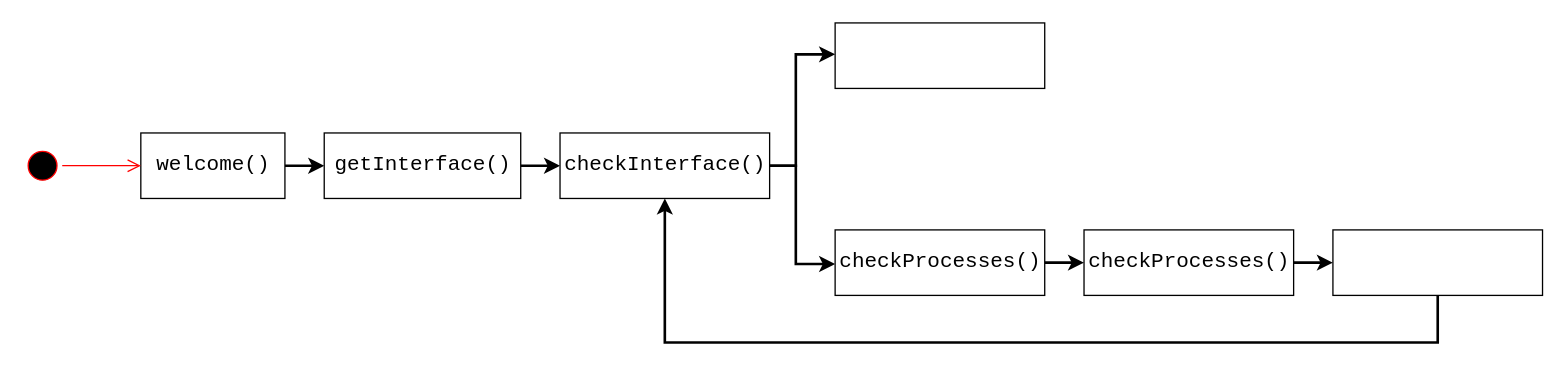
Image size: 1565x377. Some labels were removed from this diagram. The centre of each missing label's shape, as x and y in pixels:
"findTargetWash()" belongs at [939,55].
"monitorToggle()" belongs at [1437,262].
